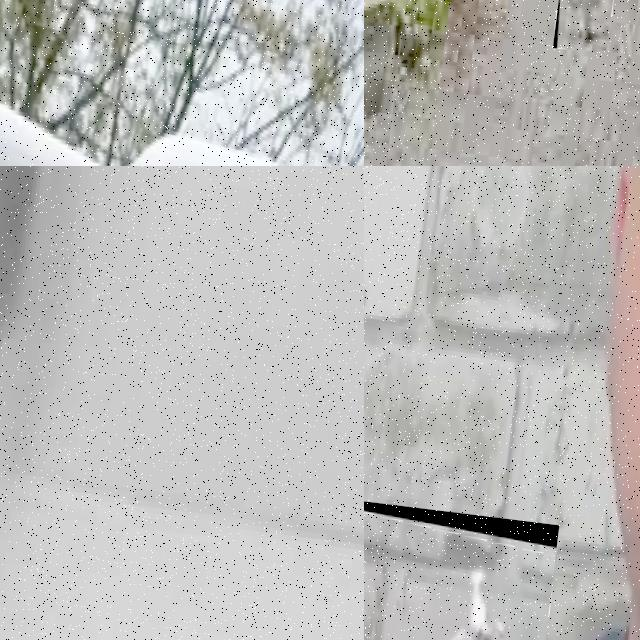0: (551, 0, 615, 54)
drone: (0, 0, 364, 166), (364, 482, 559, 640)
